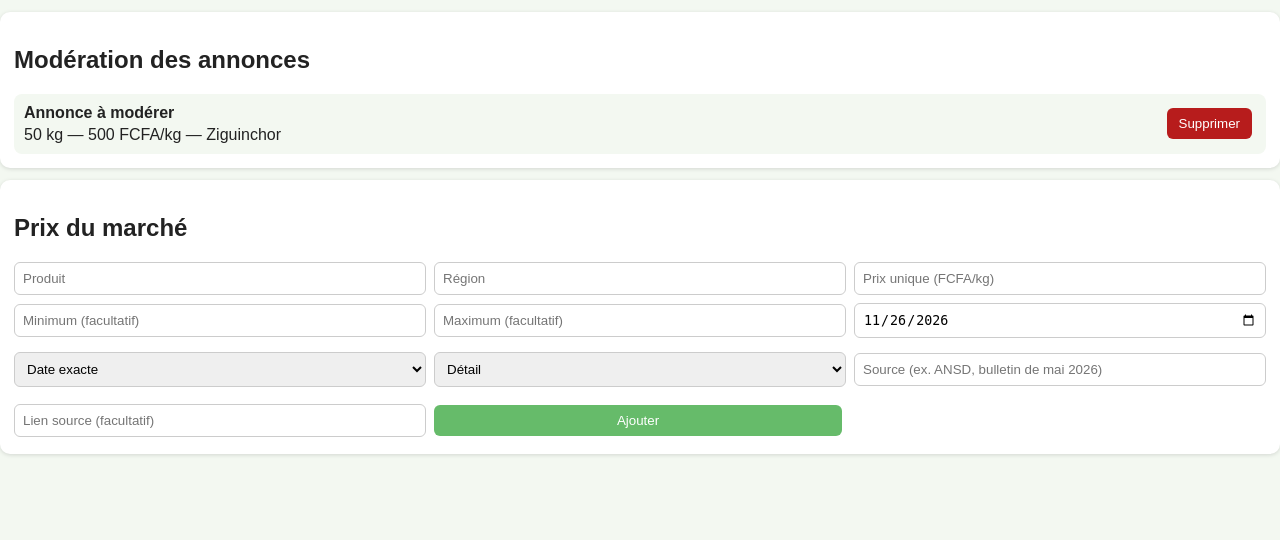
it: Admin › enregistre un prix unique fixé par l'État
Expected: the text "Annonce à modérer" is shown, left=24, top=104, right=174, bottom=121
Type "Arachide" into the field with placeholder "Produit" at (220, 278), box left=14, top=262, right=426, bottom=295
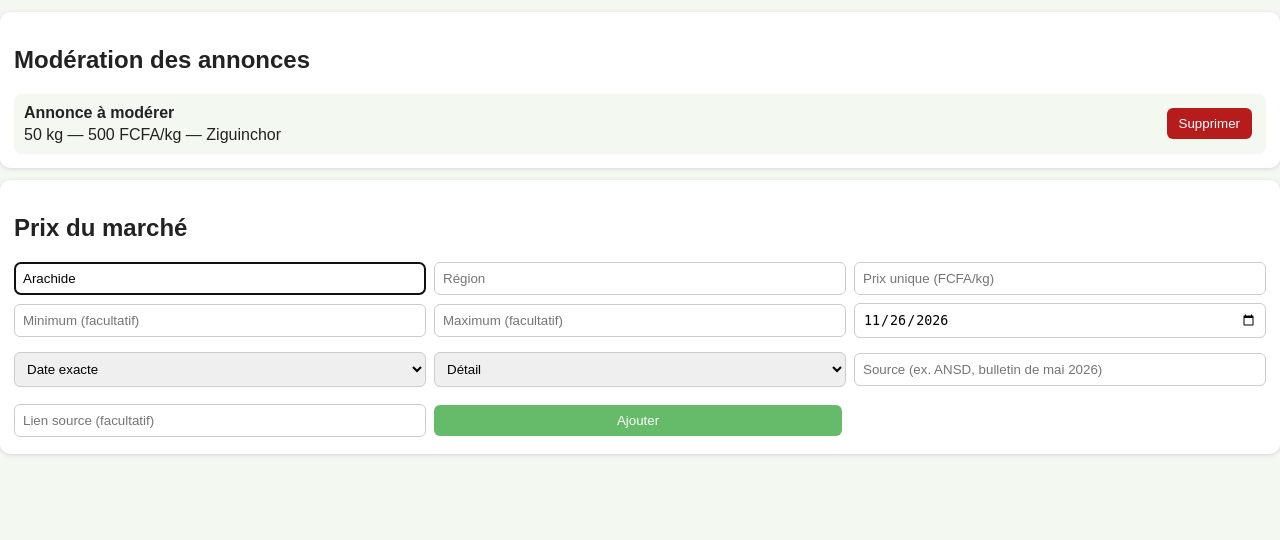
Type "Sénégal" into the field with placeholder "Région" at (640, 278), box left=434, top=262, right=846, bottom=295
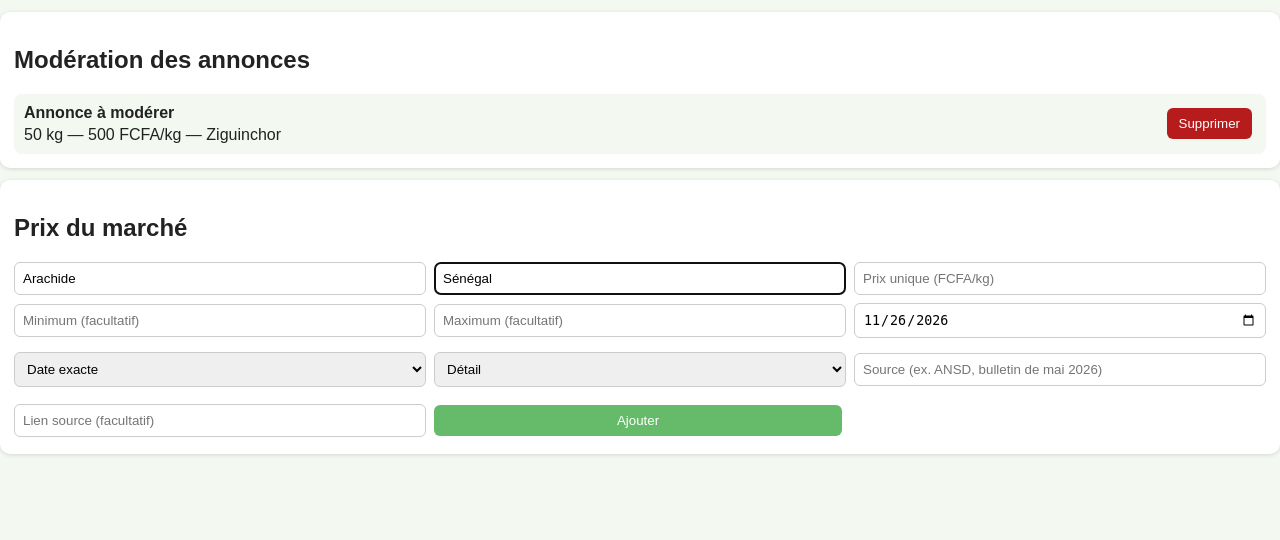
Type "305" into the number field with placeholder "Prix unique (FCFA/kg)" at (1060, 278), box left=854, top=262, right=1266, bottom=295
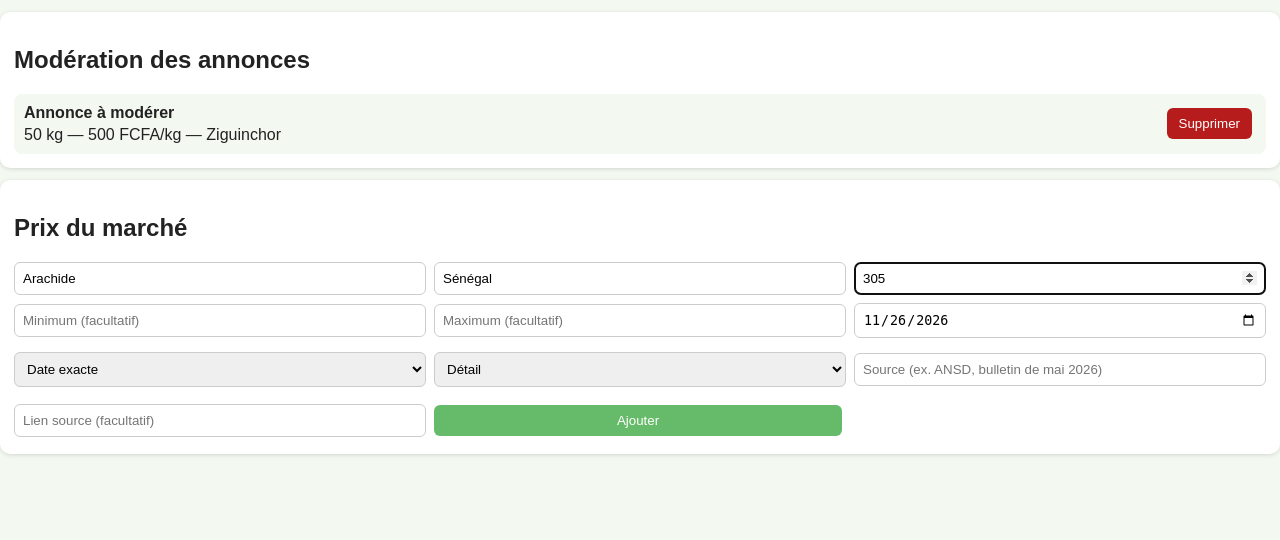
Select "Prix fixé par l’État" in the dropdown named "Type de prix" at (640, 370), box left=434, top=352, right=846, bottom=387
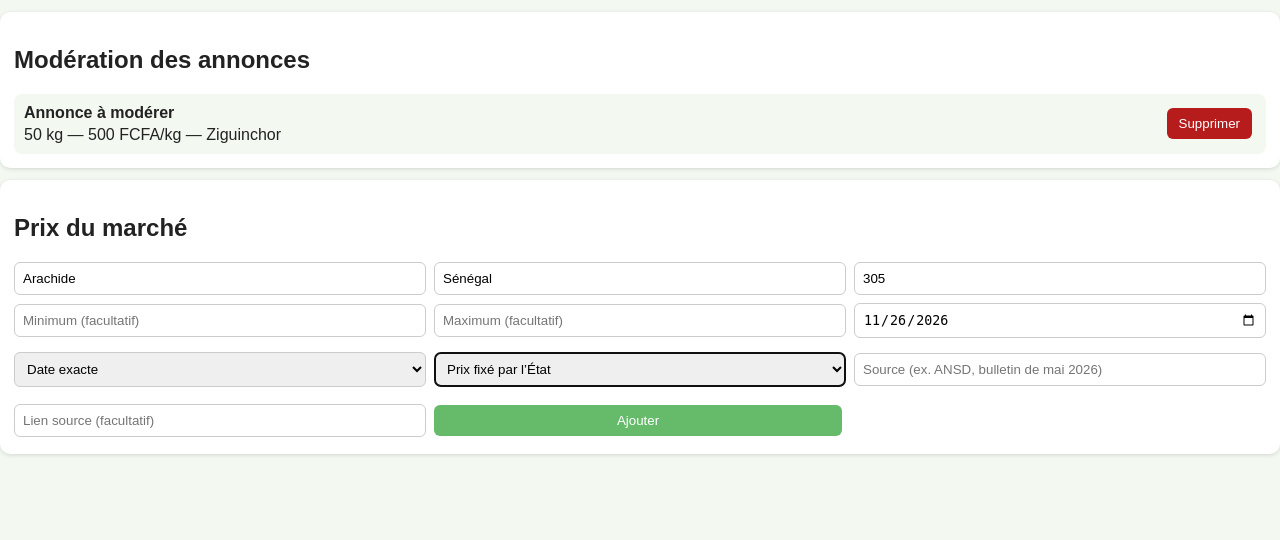
Type "Prix fixé par l’État" into the field with placeholder "Source (ex. ANSD, bulletin de mai 2026)" at (1060, 370), box left=854, top=353, right=1266, bottom=386
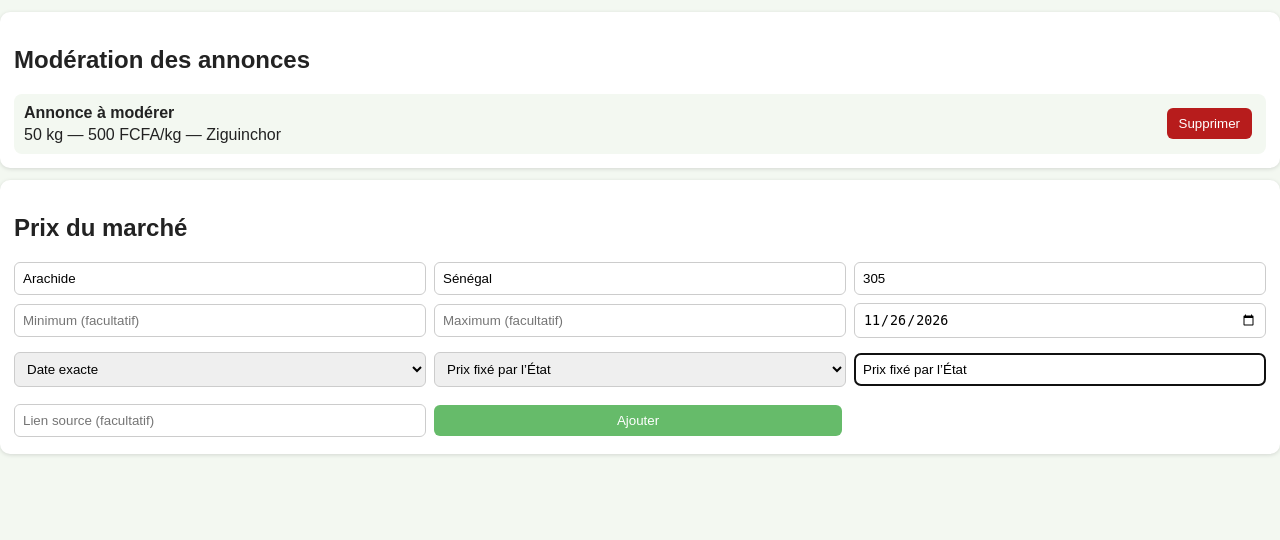
Click the button "Ajouter" at (638, 420), box left=434, top=405, right=842, bottom=436
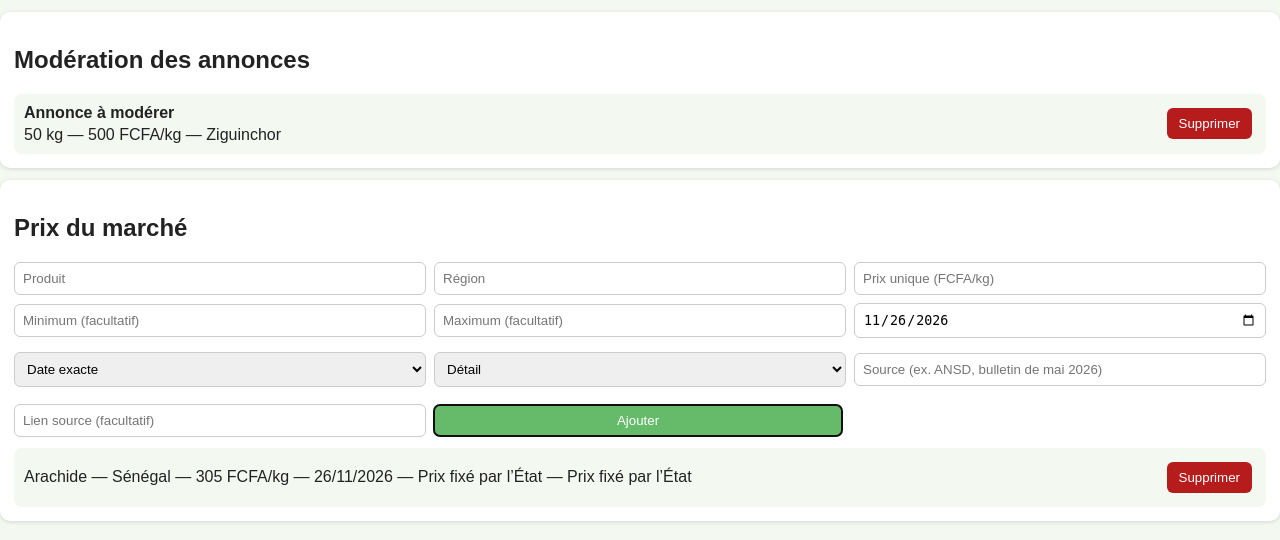
Expected: the text "Arachide — Sénégal — 305 FCFA/kg" is shown, left=24, top=468, right=692, bottom=486
